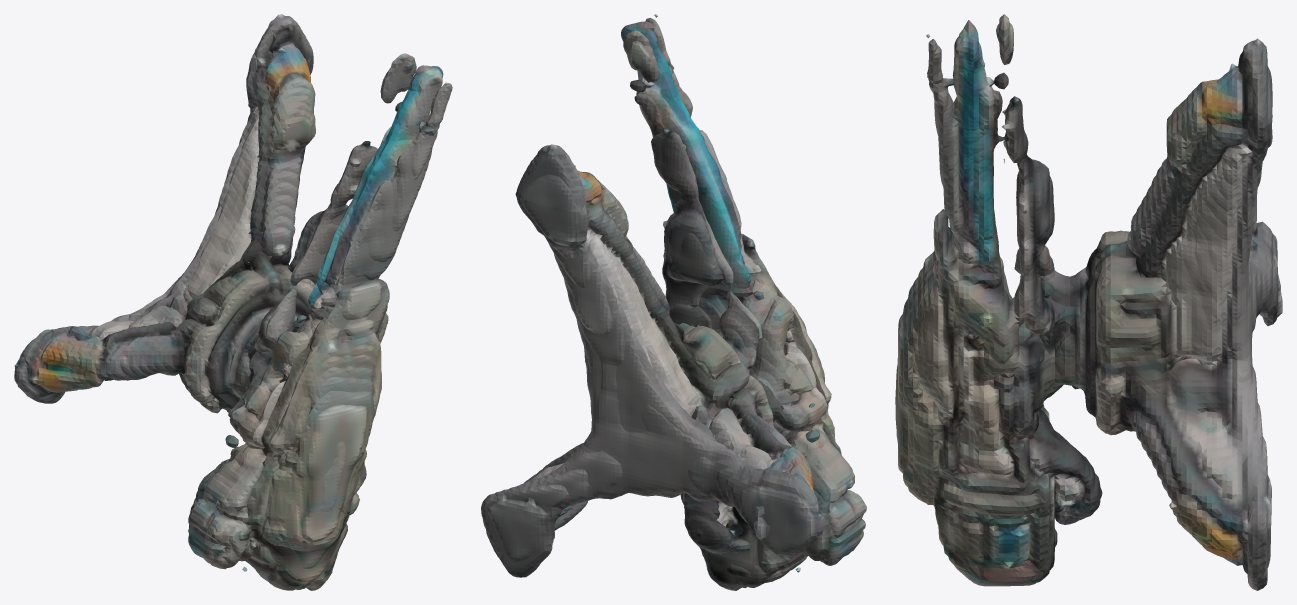
Rendered from needle.glb.
3 renders of one model, left to right at view 1: azimuth 30°, elevation 25°; view 2: azimuth 150°, elevation 25°; view 3: azimuth 270°, elevation 25°, orthographic. The views are drawn at different scales.
Visible parts, largest first — view 1: geometry_0; view 2: geometry_0; view 3: geometry_0.
Part boxes in pixels (bbox=[...]): geometry_0: bbox=[14, 14, 452, 590]; geometry_0: bbox=[481, 14, 866, 590]; geometry_0: bbox=[895, 14, 1282, 590].
Bounding box in the file's own units: 0.6412 × 0.9341 × 0.5215.
